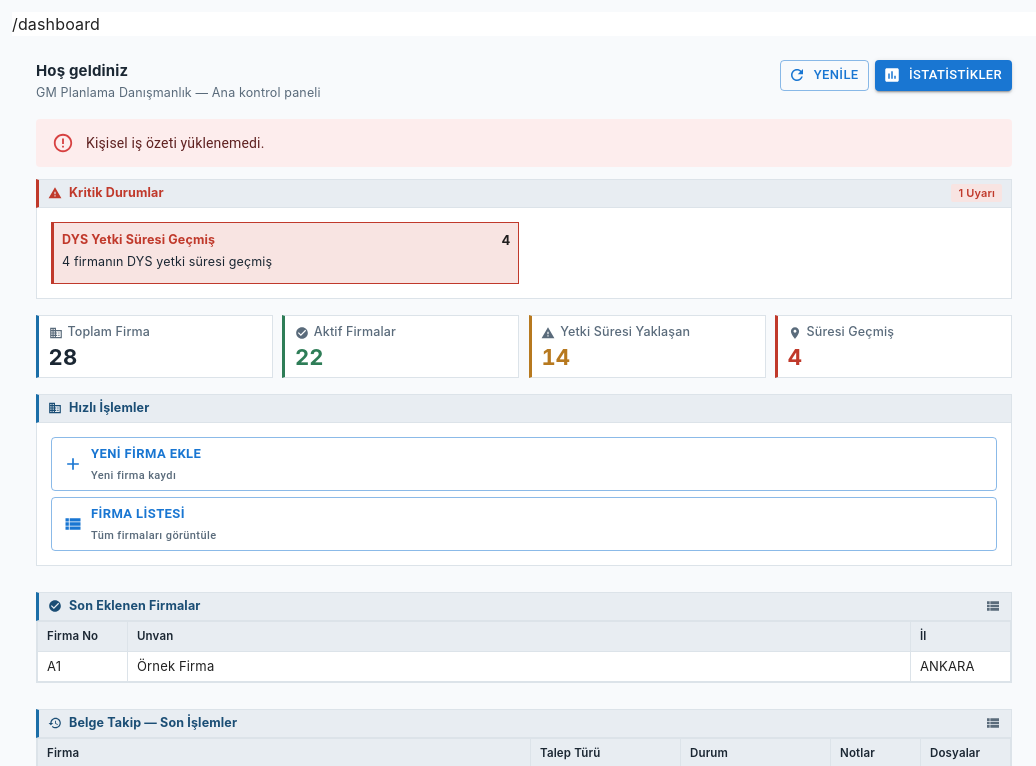
Scenario: firma özetini liste filtrelerinden bağımsız alır, yetki uyarısını ilgili listeye açar ve kişisel işleri yeniler
This screenshot has width=1036, height=766.
Expected: the button with aria-label "Yetki Süresi Yaklaşan: 14" is shown, [529, 315, 766, 378]
Expected: the text "Örnek Firma" is shown, [128, 651, 910, 682]
Click the button "Yenile" at (824, 75), box [780, 60, 869, 91]
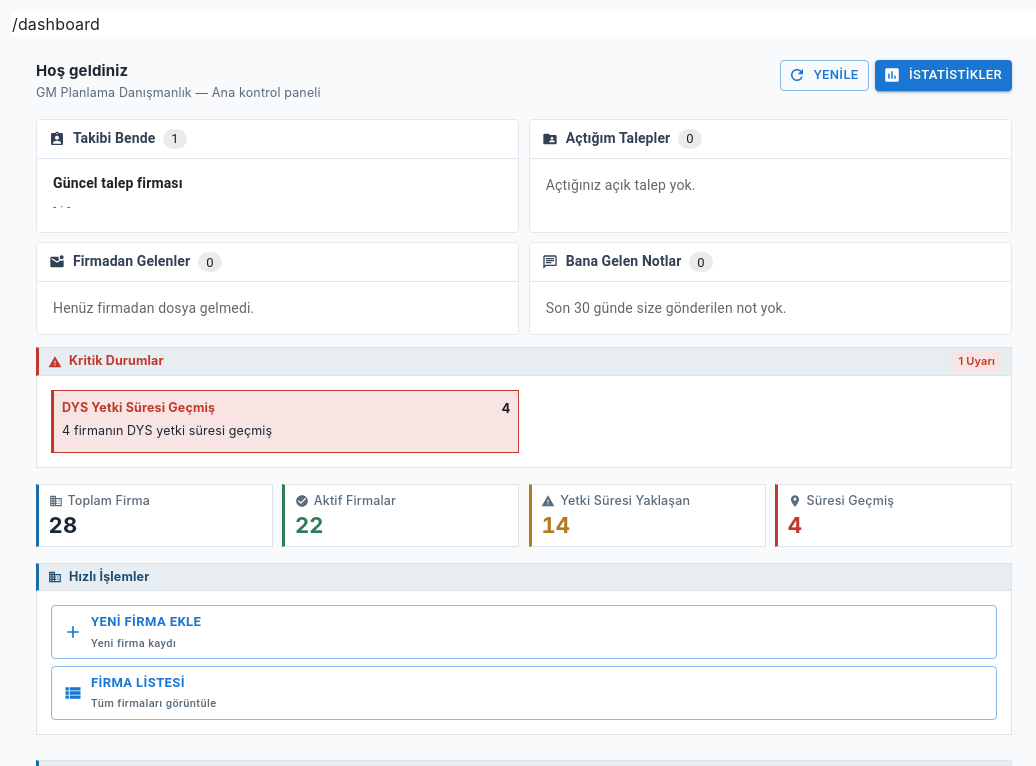
Expected: the text "Güncel talep firması" is shown, [53, 175, 183, 191]
Click the button with aria-label "DYS Yetki Süresi Geçmiş: 4" at (139, 408), box [51, 390, 519, 453]
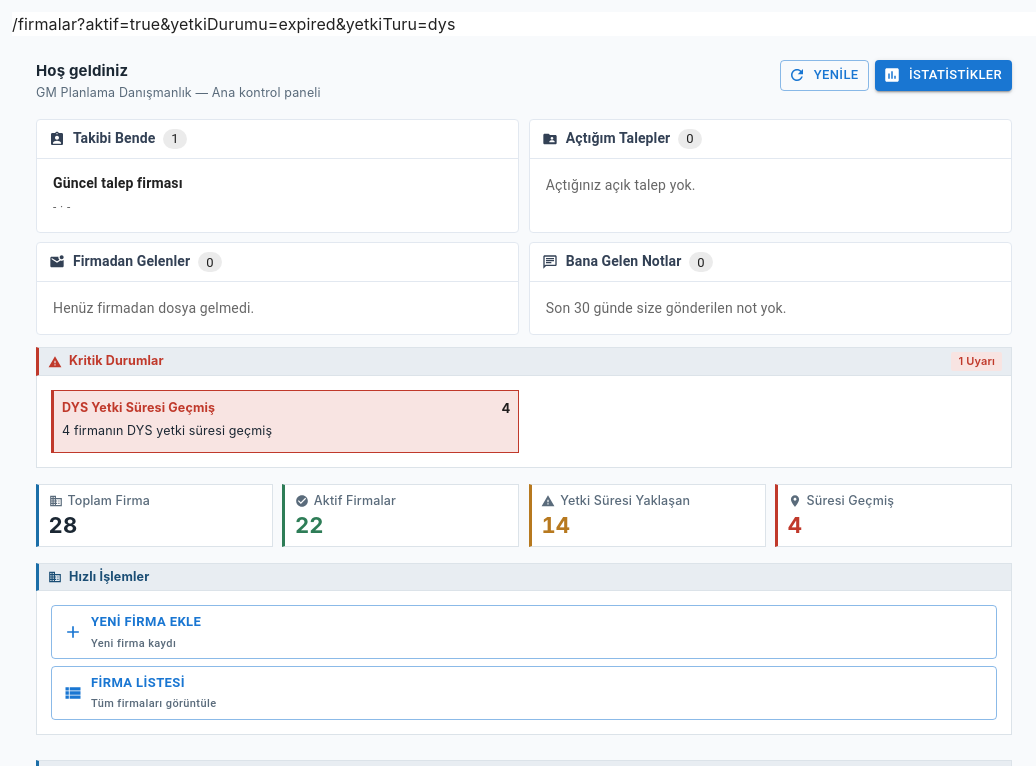
Expected: the text with test id "konum" reads "/firmalar?aktif=true&yetkiDurumu=expired&yetkiTuru=dys", [12, 14, 456, 34]
